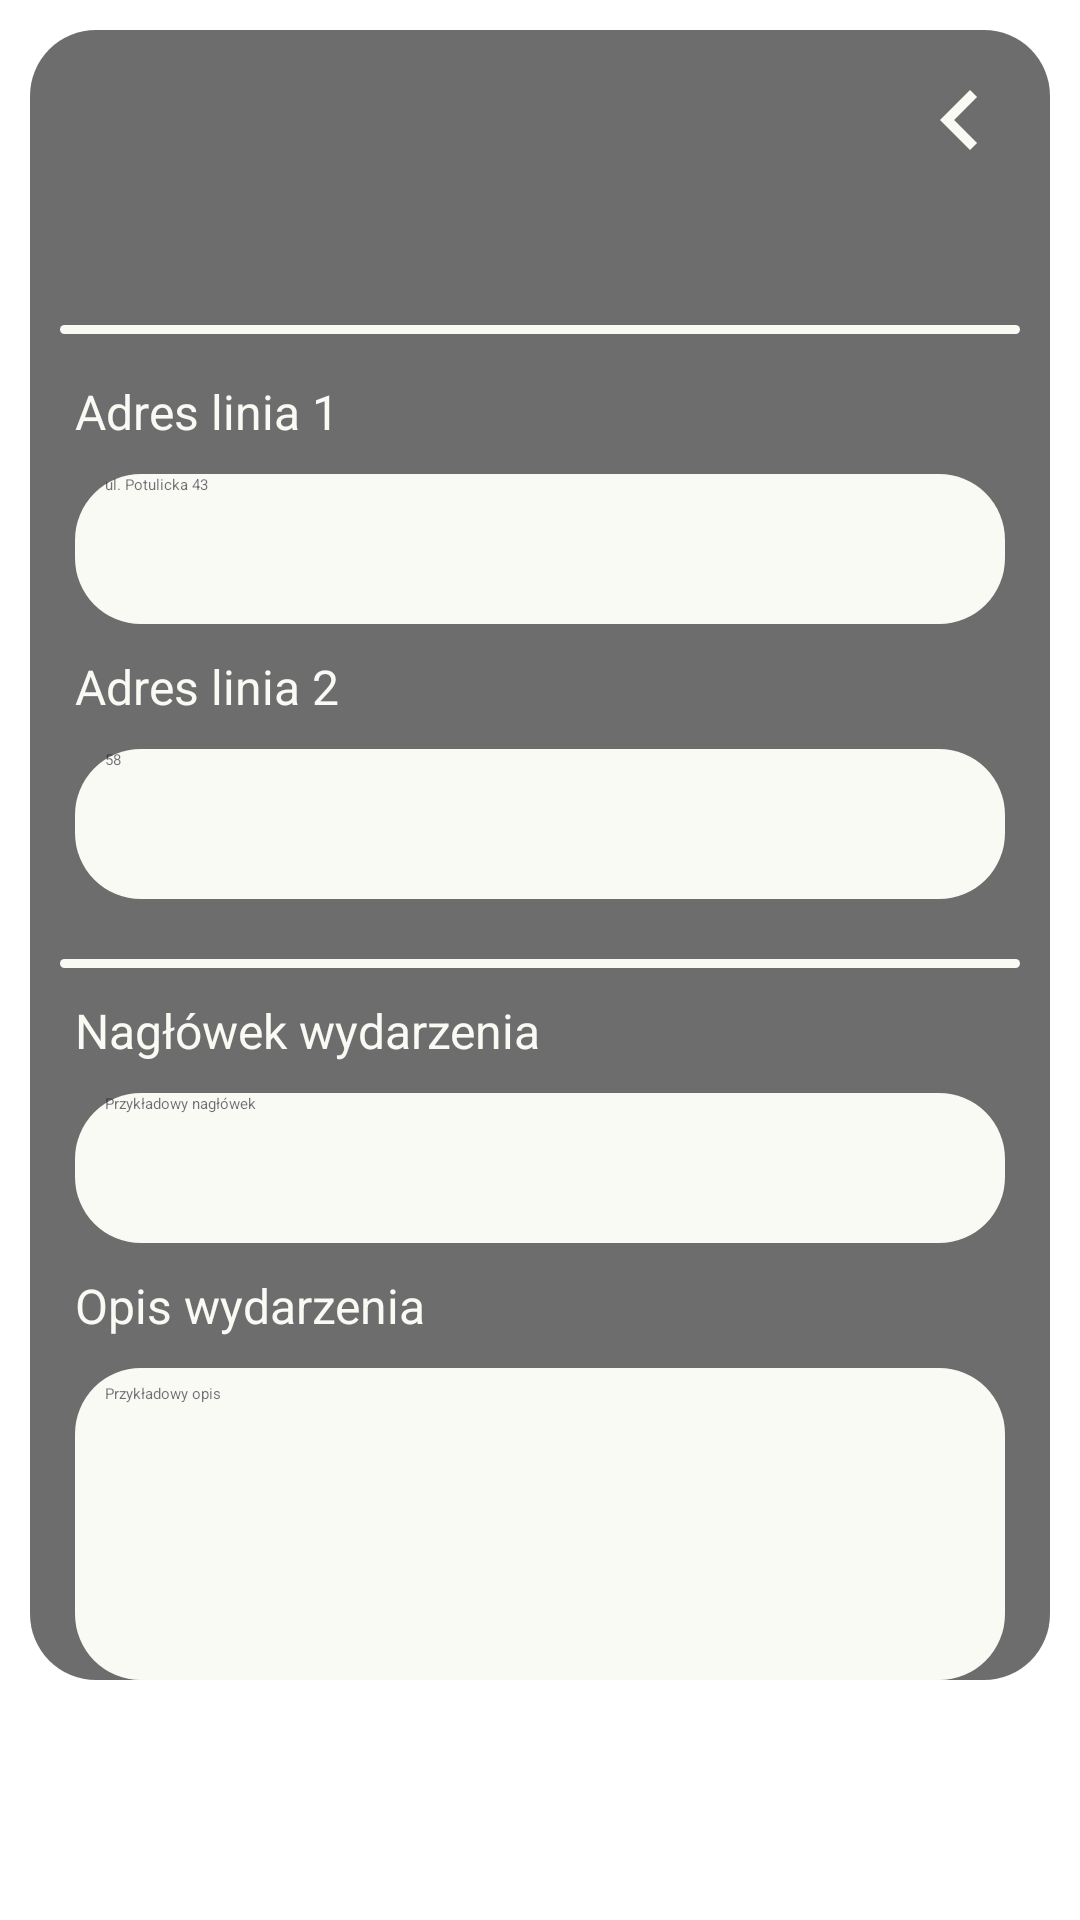

Named icons in this screenshot (1080*1920) and their bounding boxes, bbox(x1, y1, x2, y2):
keyboard arrow left: bbox(940, 90, 977, 150)
